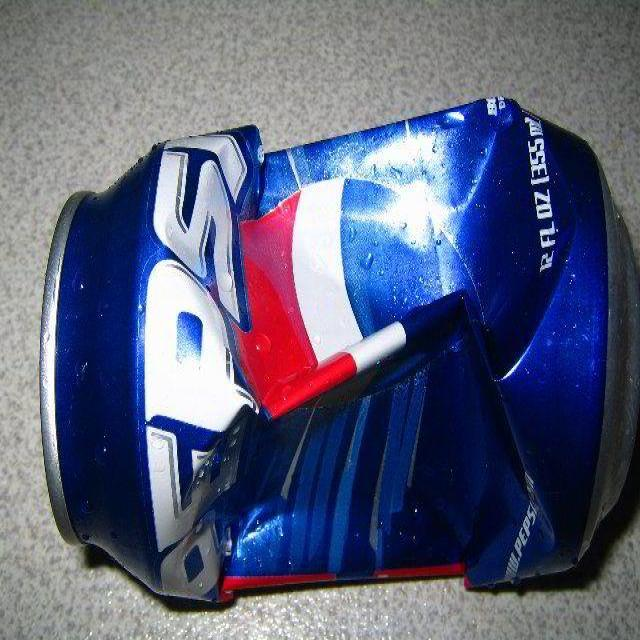can: (38, 93, 640, 608)
